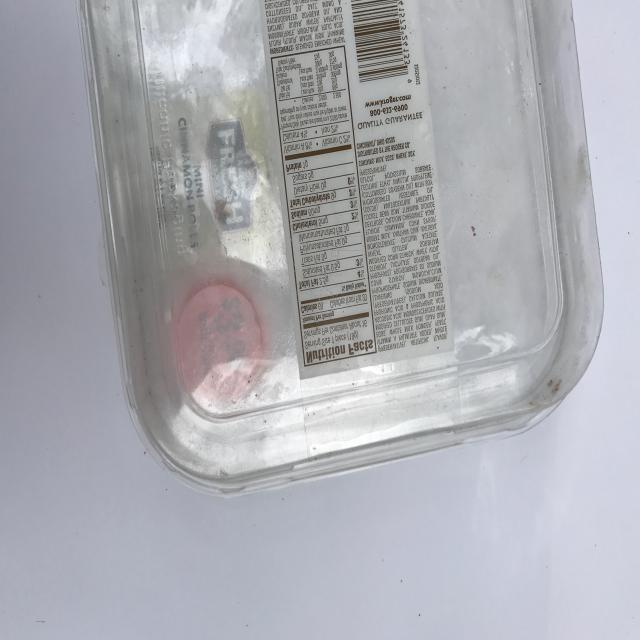plastic: (77, 0, 605, 497)
